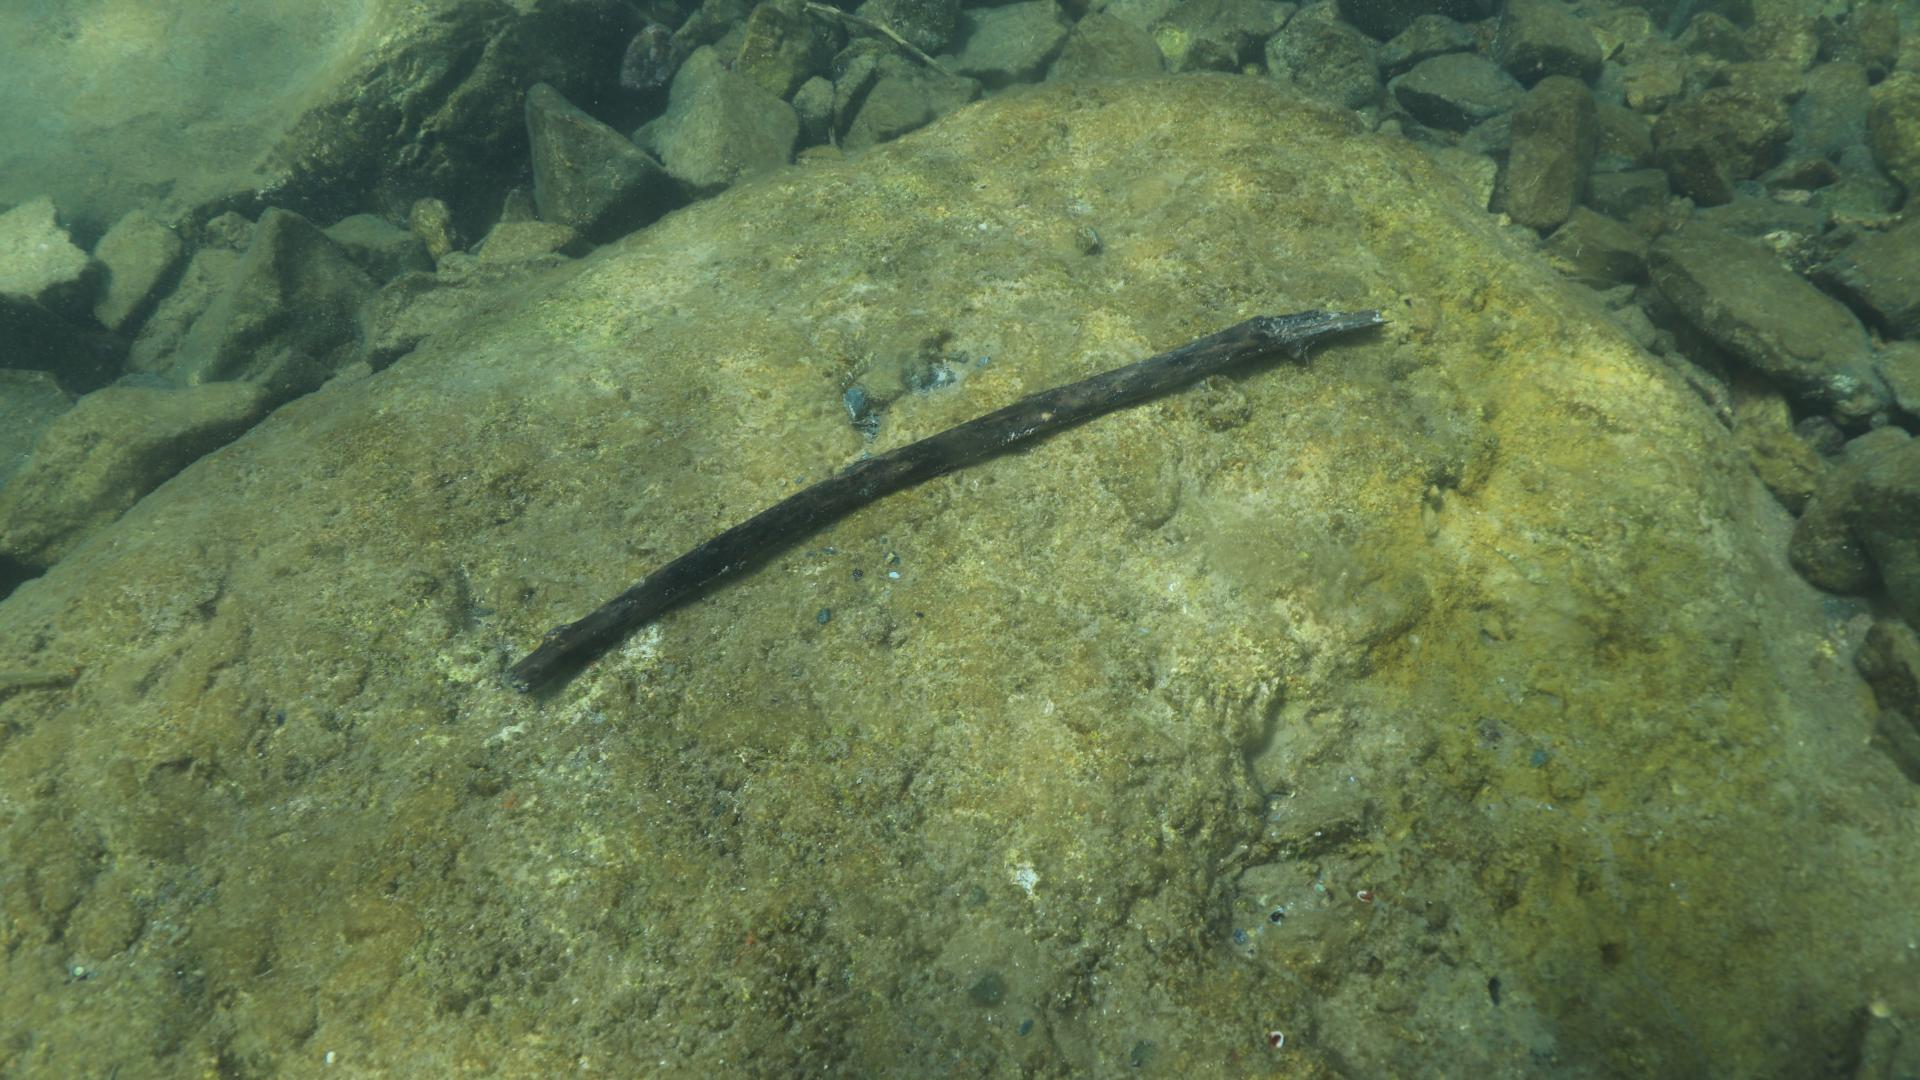wood: (500, 303, 1391, 695)
